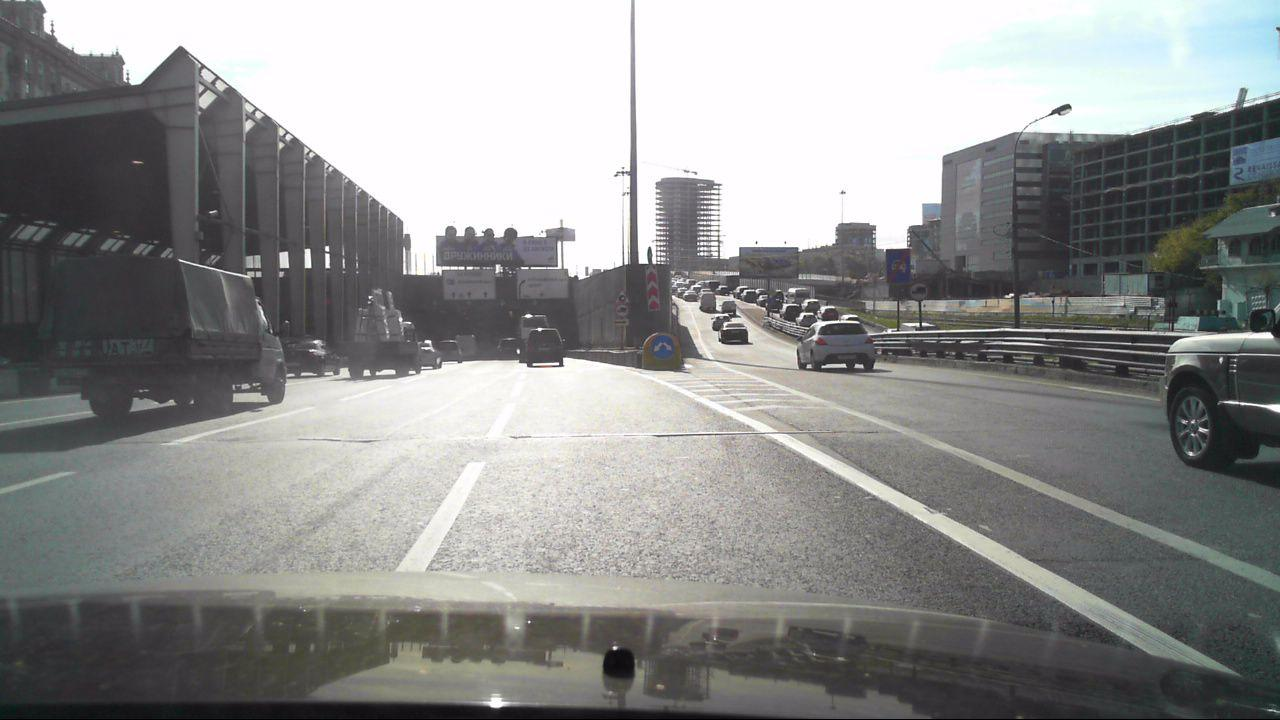1_31: (614, 290, 630, 303)
3_4: (911, 280, 930, 301), (614, 304, 630, 318)
4_2_3: (651, 332, 675, 359)
5_4: (886, 248, 912, 284)
6_9_1: (442, 268, 497, 300), (517, 269, 569, 299)
8_22_3: (646, 264, 662, 312)
8_3_1: (613, 318, 629, 326)
